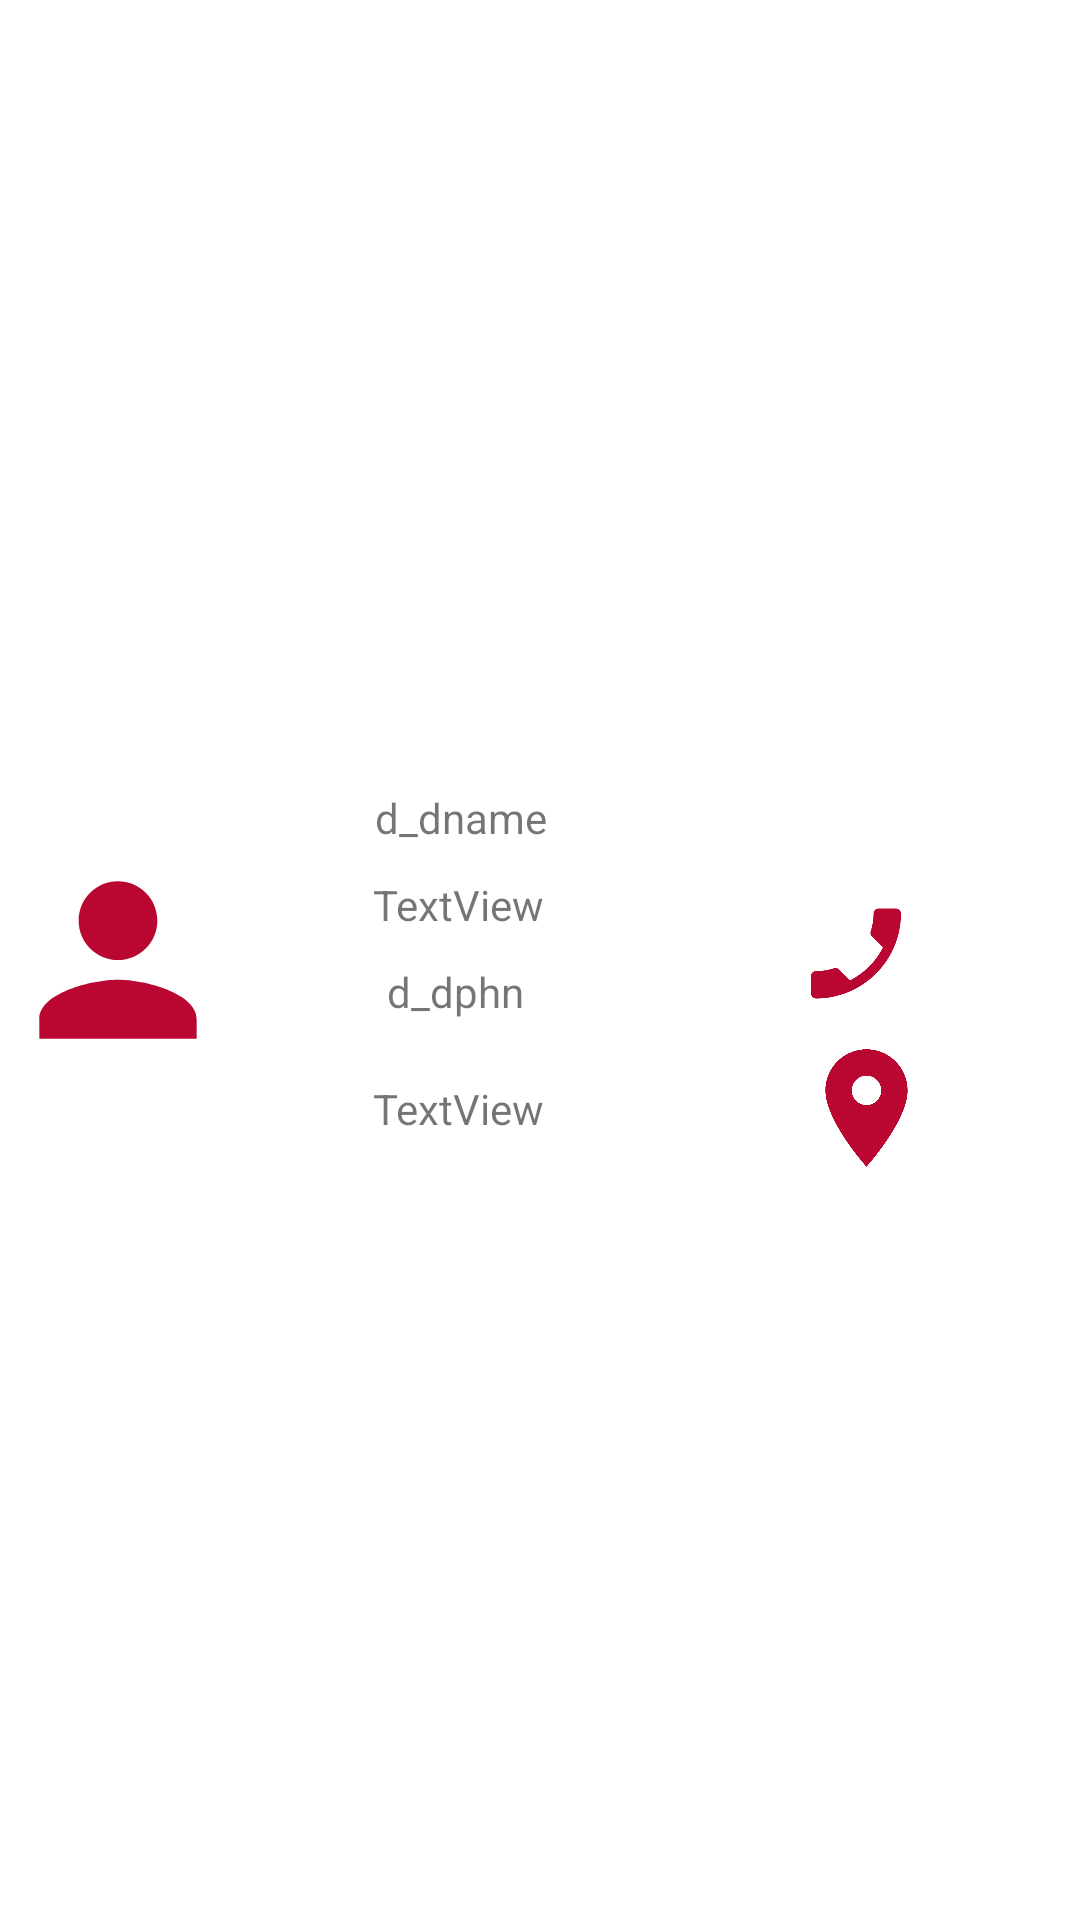

Where icons sit on this 1080x1920 app screen, as (x1, y1, x2, y2):
loc: (825, 1049, 908, 1167)
person: (39, 881, 197, 1039)
phon: (811, 908, 901, 999)
